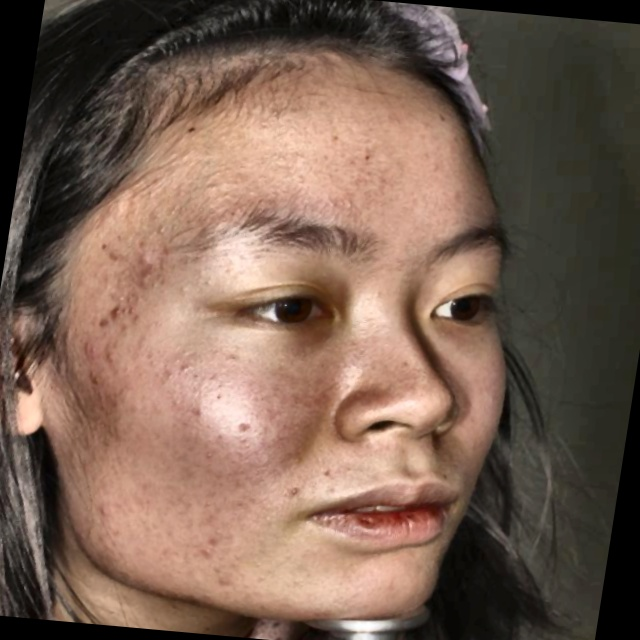comedone: (120, 253, 167, 283), (72, 334, 103, 369)
